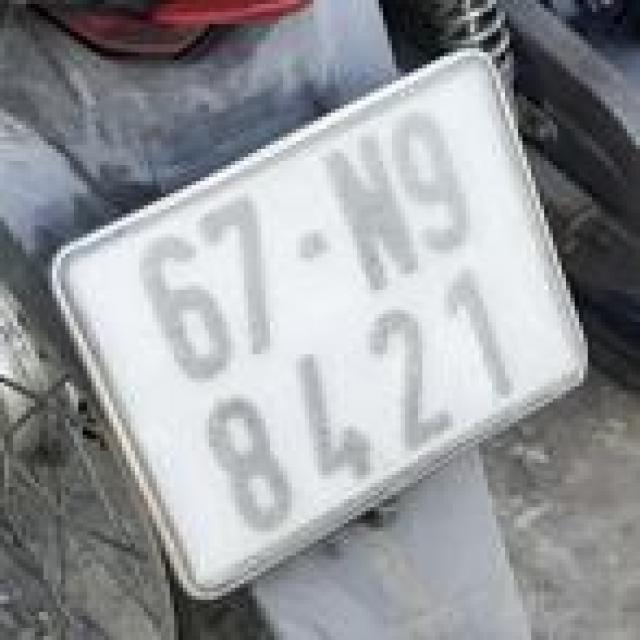1: (424, 252, 552, 420)
2: (344, 292, 478, 466)
4: (270, 339, 396, 506)
6: (120, 220, 245, 397)
7: (187, 183, 303, 367)
8: (185, 380, 316, 551)
9: (375, 97, 503, 278)
N: (308, 118, 434, 309)
